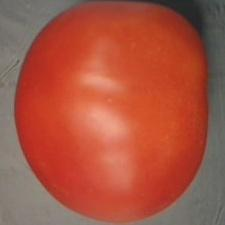unripe: (13, 1, 212, 225)
